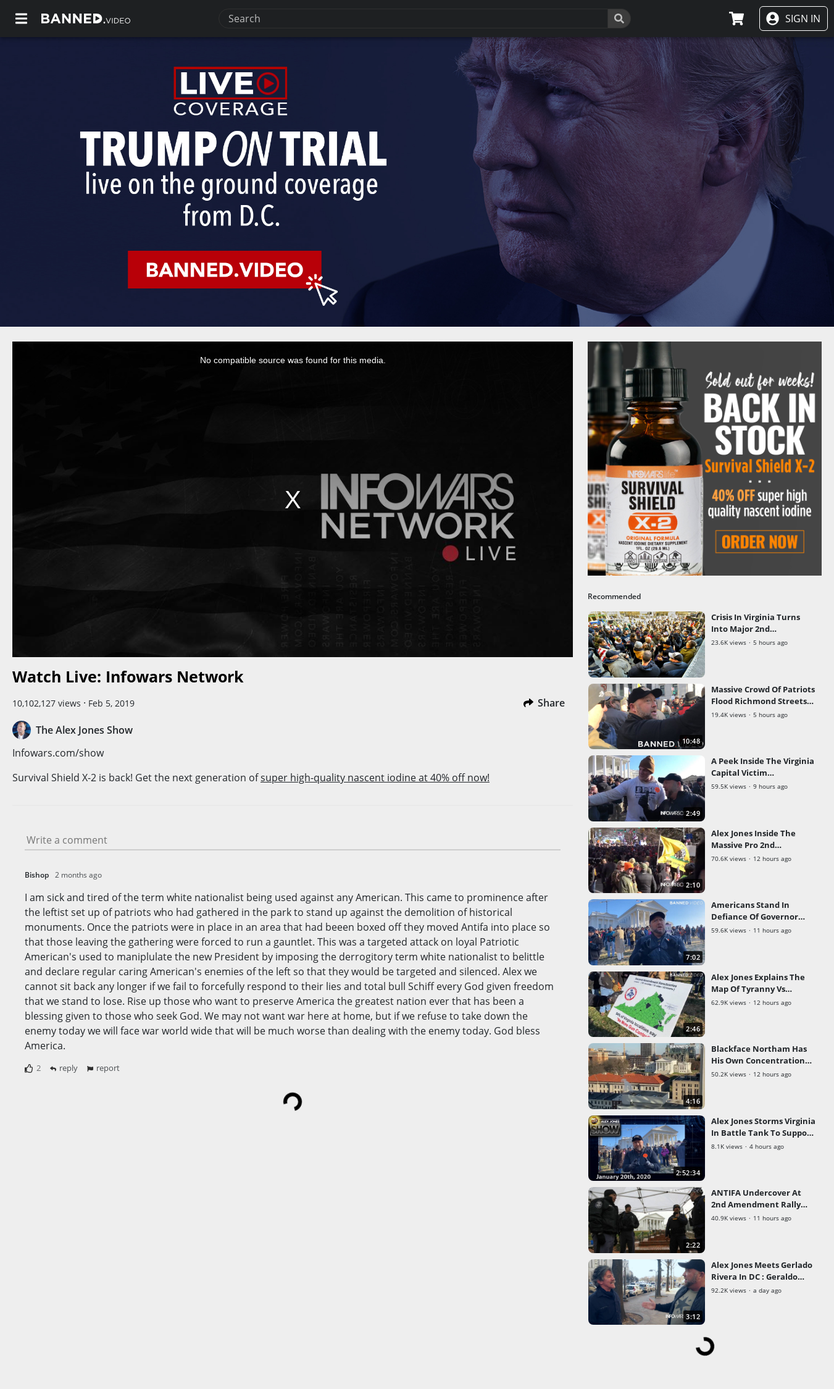fake_button: (114, 234, 364, 319)
